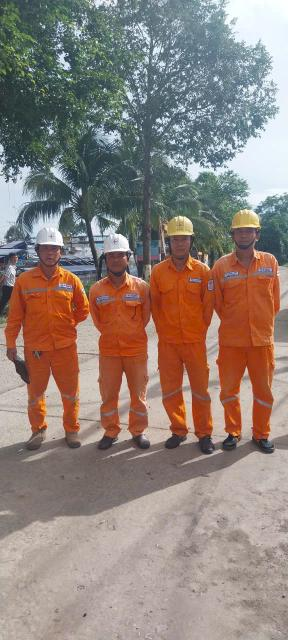helmet: (225, 205, 267, 234), (97, 229, 134, 257), (163, 213, 202, 238), (33, 223, 68, 250)
shoes: (88, 429, 122, 453), (27, 418, 50, 453), (195, 426, 219, 458), (60, 429, 90, 452), (250, 432, 277, 455), (133, 430, 156, 453), (164, 427, 186, 451), (223, 427, 241, 456)
